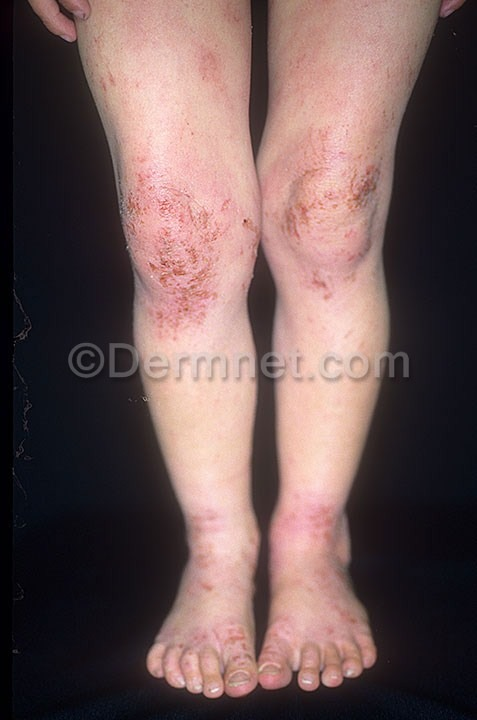Eczema: (93, 1, 250, 353), (273, 1, 398, 343), (263, 481, 376, 685), (156, 500, 256, 702)
